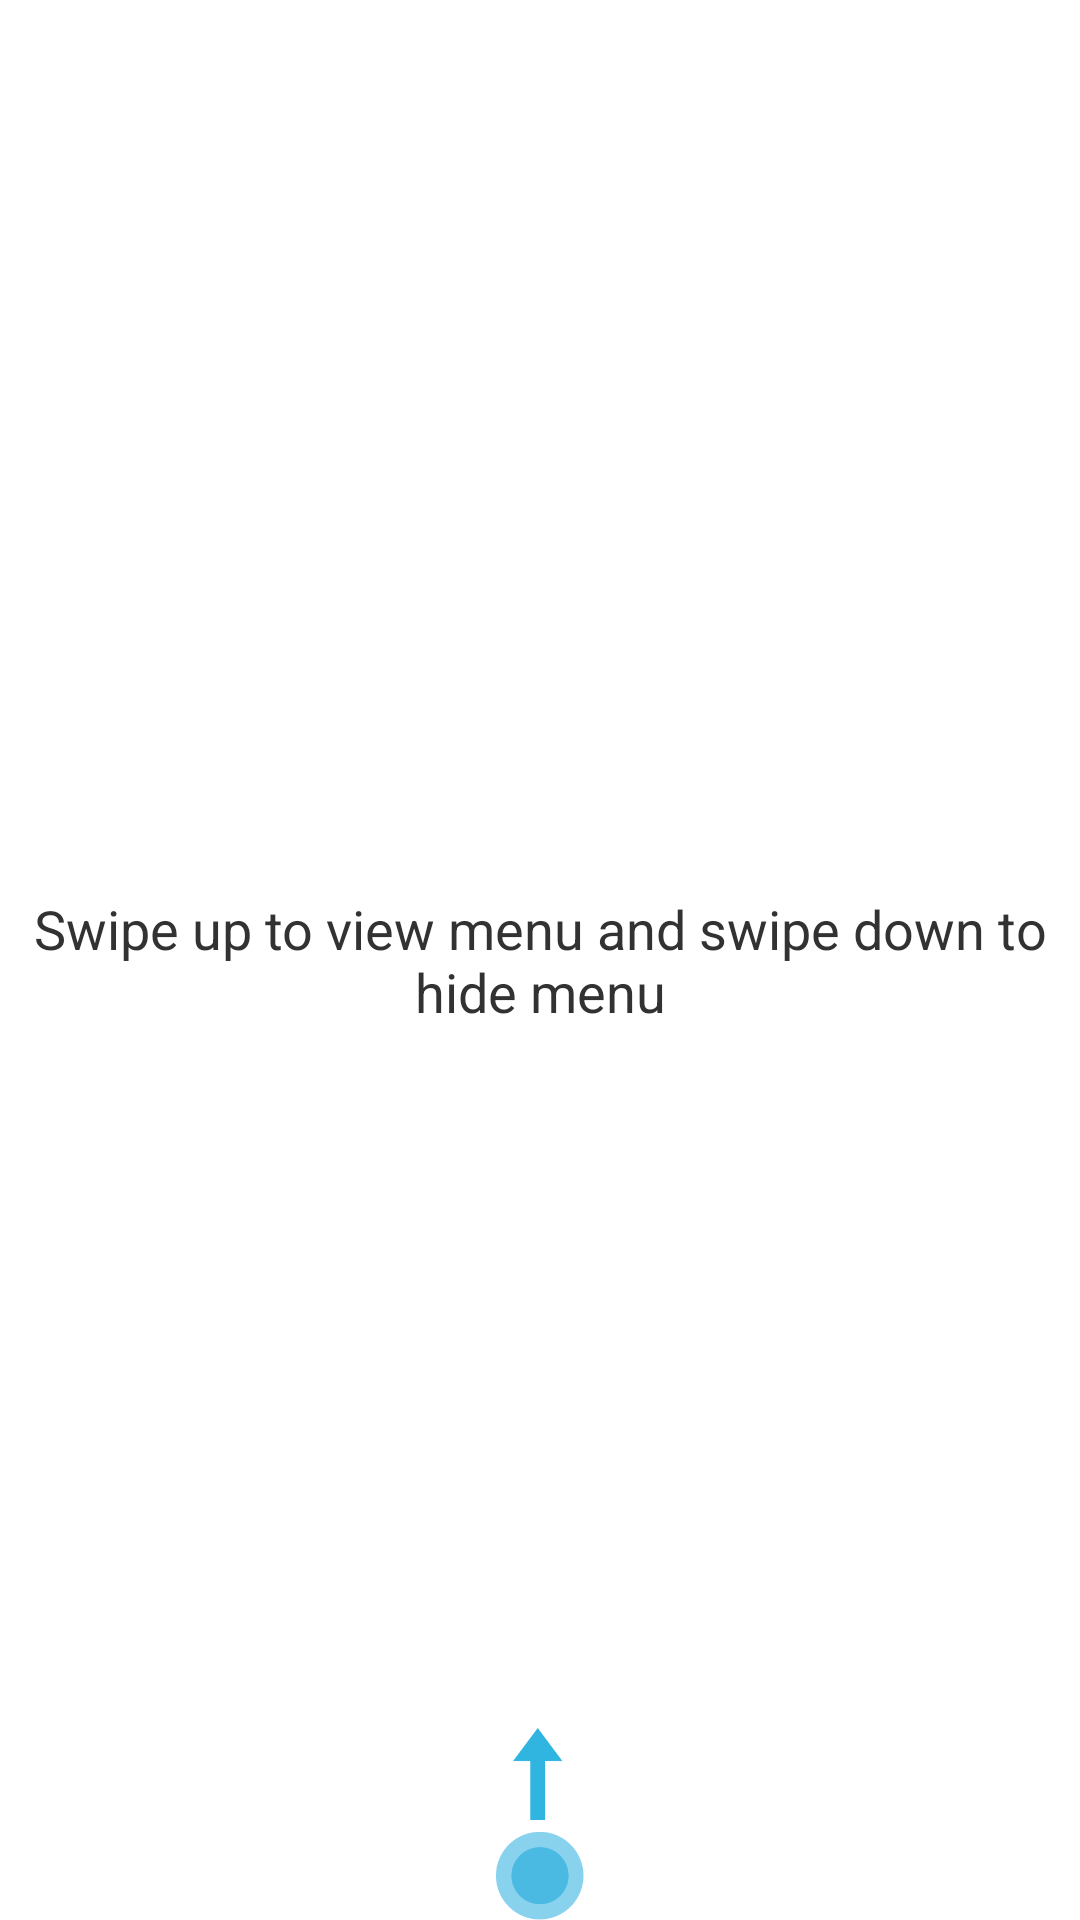

Screen size 1080×1920. Icon name, then its center in pixels as (x,y):
Swipe up to view menu and swipe down to hide menu: (540,1824)
